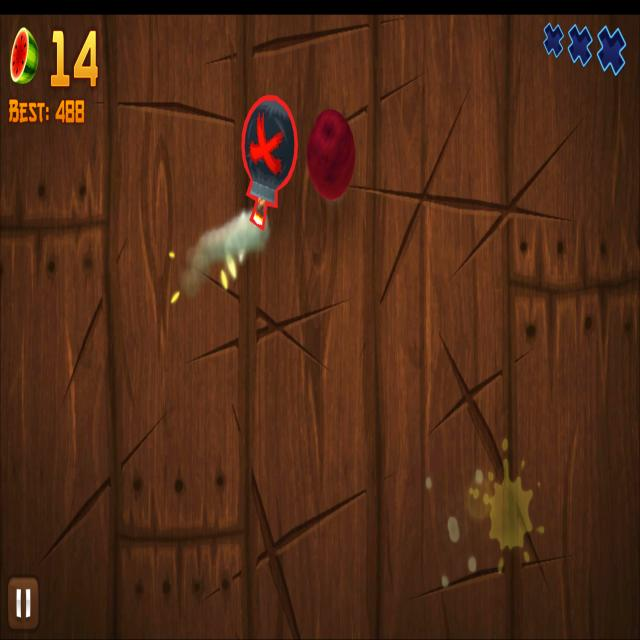bomb: (242, 94, 298, 230)
fruit: (306, 110, 356, 202)
